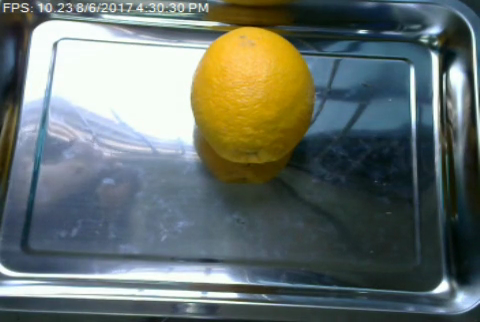Orange: (190, 27, 315, 165)
